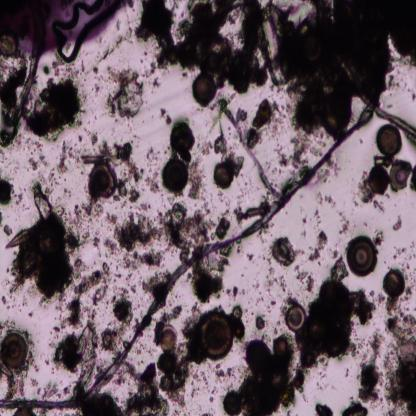Air bubble: (56, 1, 110, 64), (12, 408, 36, 416)
Background material: (289, 0, 416, 131), (294, 254, 382, 369), (178, 1, 269, 90), (13, 214, 76, 307), (240, 338, 305, 414), (378, 298, 416, 415), (79, 141, 132, 208), (29, 78, 85, 140), (136, 0, 178, 68), (257, 6, 291, 90), (121, 360, 170, 414), (56, 327, 99, 388), (162, 202, 213, 249), (106, 66, 144, 119), (357, 332, 384, 404), (0, 36, 28, 104), (157, 349, 193, 400), (245, 101, 282, 148), (114, 216, 164, 249), (195, 254, 228, 302), (99, 27, 134, 62), (185, 309, 205, 369), (110, 286, 134, 334), (64, 205, 87, 253), (271, 231, 296, 271), (118, 164, 142, 204), (120, 251, 165, 271), (144, 146, 161, 196), (58, 298, 84, 330), (72, 271, 101, 299), (83, 395, 125, 414), (32, 181, 52, 220), (289, 137, 309, 175), (214, 94, 236, 126), (26, 139, 50, 168), (189, 159, 206, 199), (230, 302, 246, 340), (309, 230, 327, 262), (234, 204, 270, 220), (86, 207, 116, 226), (92, 280, 111, 310), (359, 166, 374, 204), (101, 328, 120, 356), (214, 361, 237, 384), (318, 162, 340, 186), (312, 191, 337, 211), (340, 400, 370, 416), (335, 205, 351, 235), (0, 177, 14, 207), (265, 276, 288, 294), (404, 264, 416, 298), (37, 383, 61, 400), (103, 237, 119, 262), (229, 152, 243, 180), (145, 62, 160, 88), (57, 143, 68, 178), (158, 314, 185, 328), (310, 401, 336, 415), (215, 219, 232, 240), (274, 145, 288, 169), (82, 305, 96, 328), (214, 134, 228, 157), (304, 272, 316, 296), (47, 168, 60, 189), (198, 140, 214, 156), (159, 108, 173, 126), (28, 350, 39, 372), (72, 258, 89, 272), (391, 213, 402, 234), (255, 314, 267, 333), (51, 204, 67, 218), (62, 65, 79, 78), (235, 108, 248, 125), (100, 260, 112, 278), (372, 230, 385, 246), (254, 280, 263, 302), (92, 231, 100, 253), (129, 135, 143, 147), (51, 325, 62, 340), (28, 157, 38, 172), (14, 192, 24, 206), (313, 210, 320, 229), (87, 134, 98, 146), (245, 252, 255, 264), (3, 223, 13, 235), (267, 297, 279, 307), (52, 62, 60, 77), (232, 283, 239, 299), (27, 305, 34, 319), (43, 65, 51, 76), (92, 66, 100, 77), (0, 210, 3, 228), (1, 296, 6, 306)
Cellulose filter fibre: (223, 106, 277, 198), (12, 12, 45, 128), (352, 86, 416, 139)
Cotton: (1, 106, 373, 408)
Diatom: (0, 0, 124, 50), (200, 312, 233, 358), (347, 235, 377, 276), (323, 92, 350, 133), (162, 159, 190, 193), (2, 332, 27, 370), (170, 121, 196, 154), (378, 124, 402, 158), (192, 73, 216, 106), (389, 160, 410, 192), (384, 270, 407, 298), (369, 164, 389, 196), (159, 325, 178, 354), (286, 305, 306, 332), (5, 228, 28, 250), (214, 162, 233, 188), (224, 390, 241, 415), (273, 335, 289, 358), (0, 359, 13, 378), (296, 271, 308, 280)
